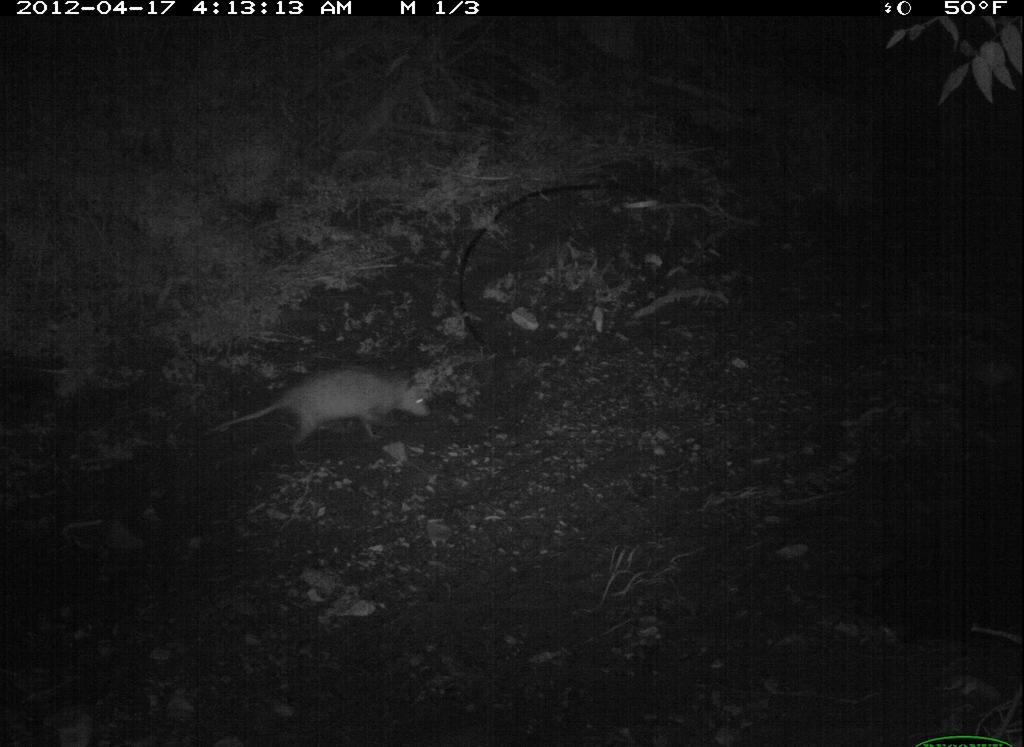opossum: (204, 358, 438, 456)
